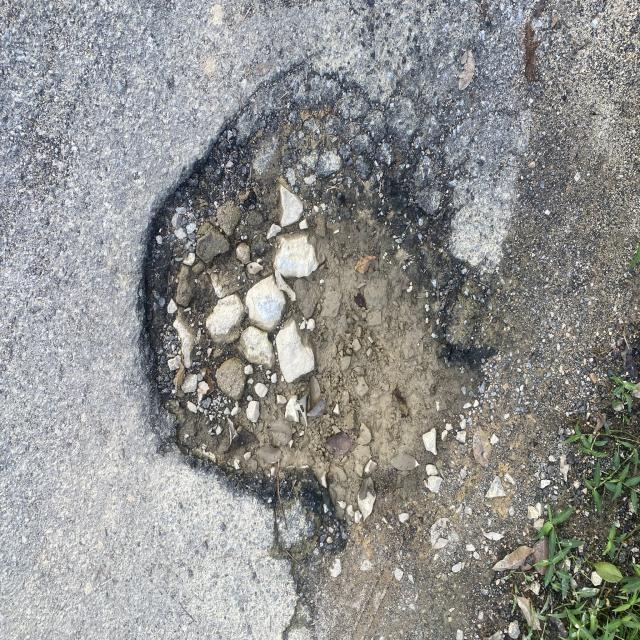Pothole: (109, 51, 441, 596)
